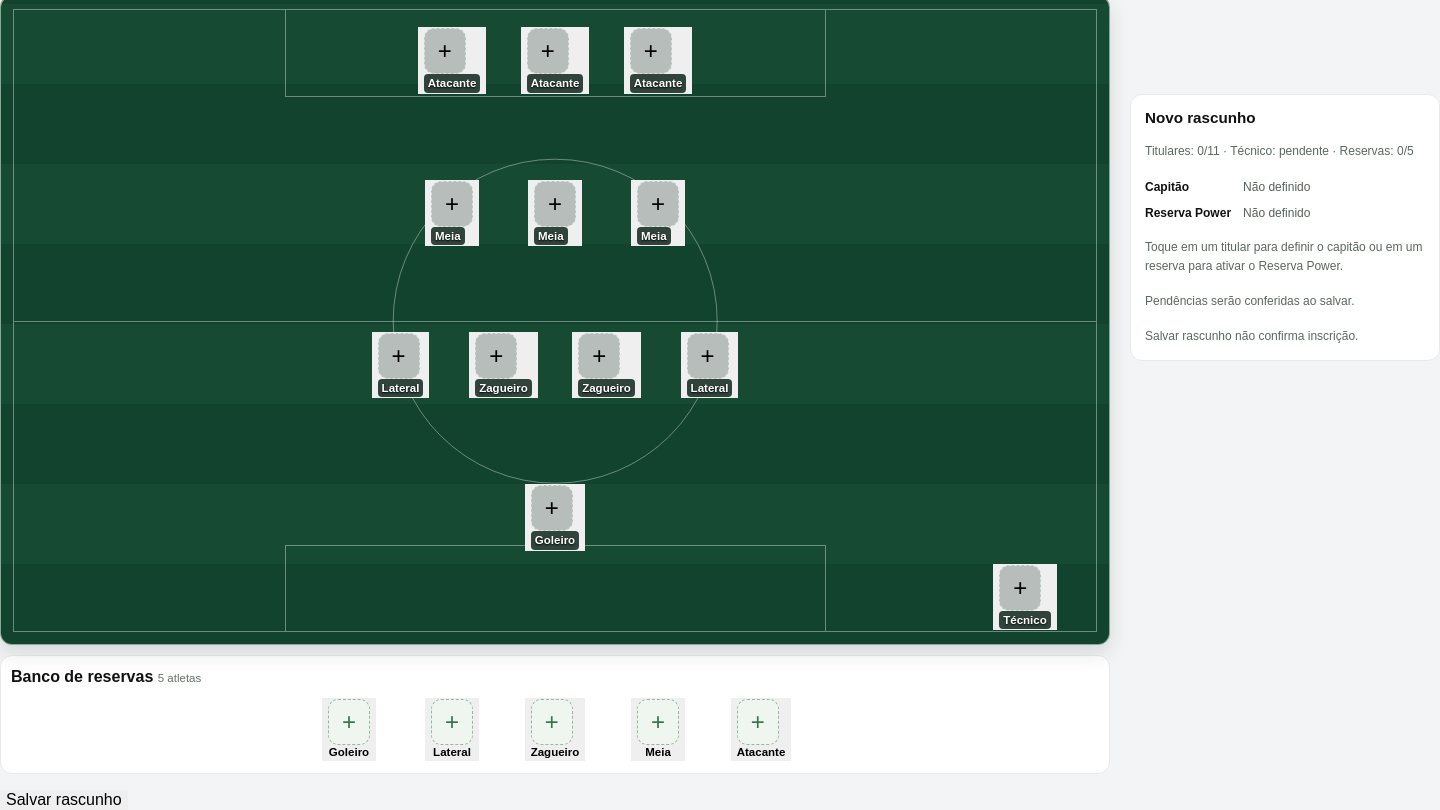
Scenario: Server public identity › goes straight to the pitch and asks for a name only on save
(page scrolled)
Expected: the field labelled "Nome do time" is not shown
Click the button "Salvar rascunho" at (64, 800), box [0, 790, 128, 809]
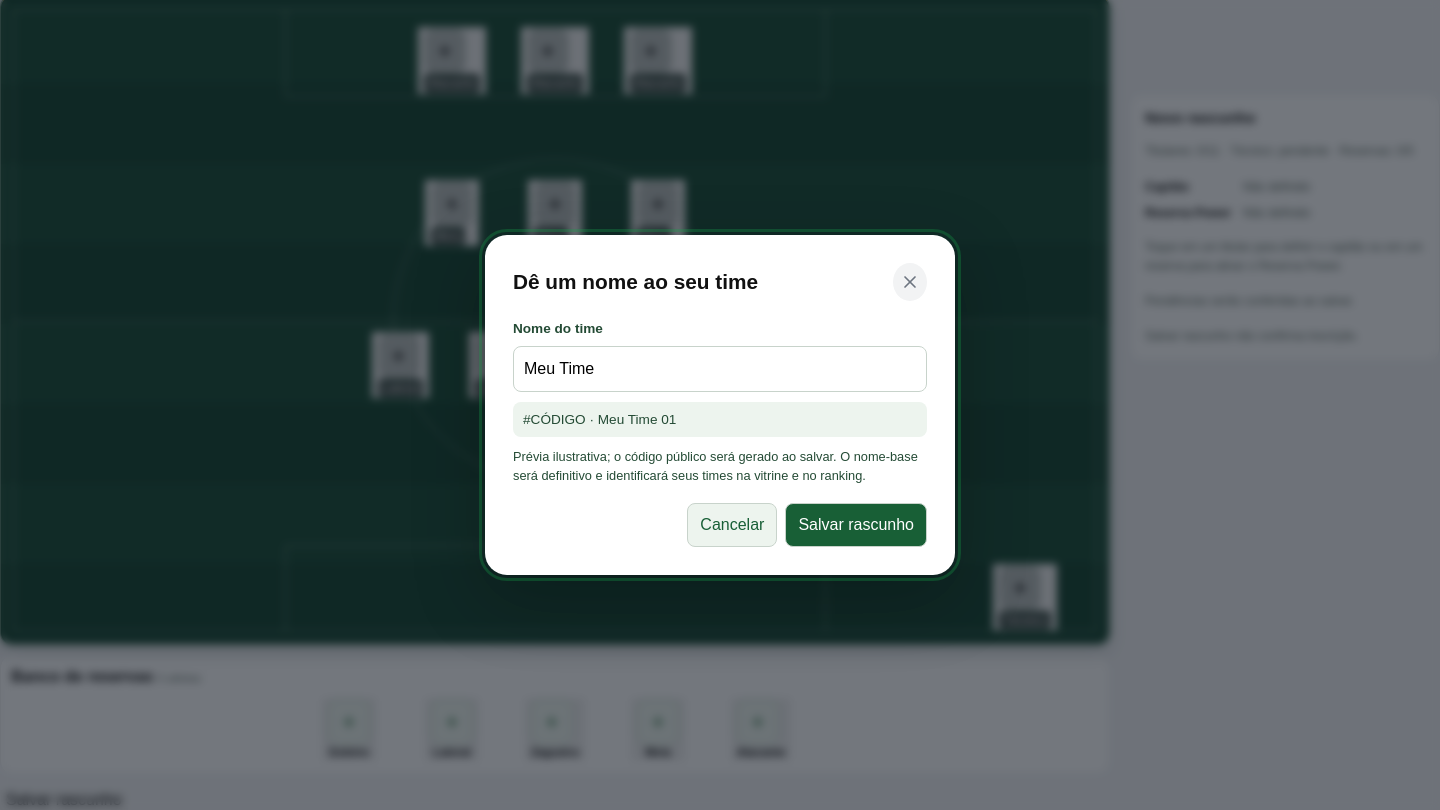
Now the field labelled "Nome do time" holds "Meu Time", box [513, 346, 927, 392]
Now the text "#CÓDIGO · Meu Time 01" is shown, box [513, 402, 927, 437]
